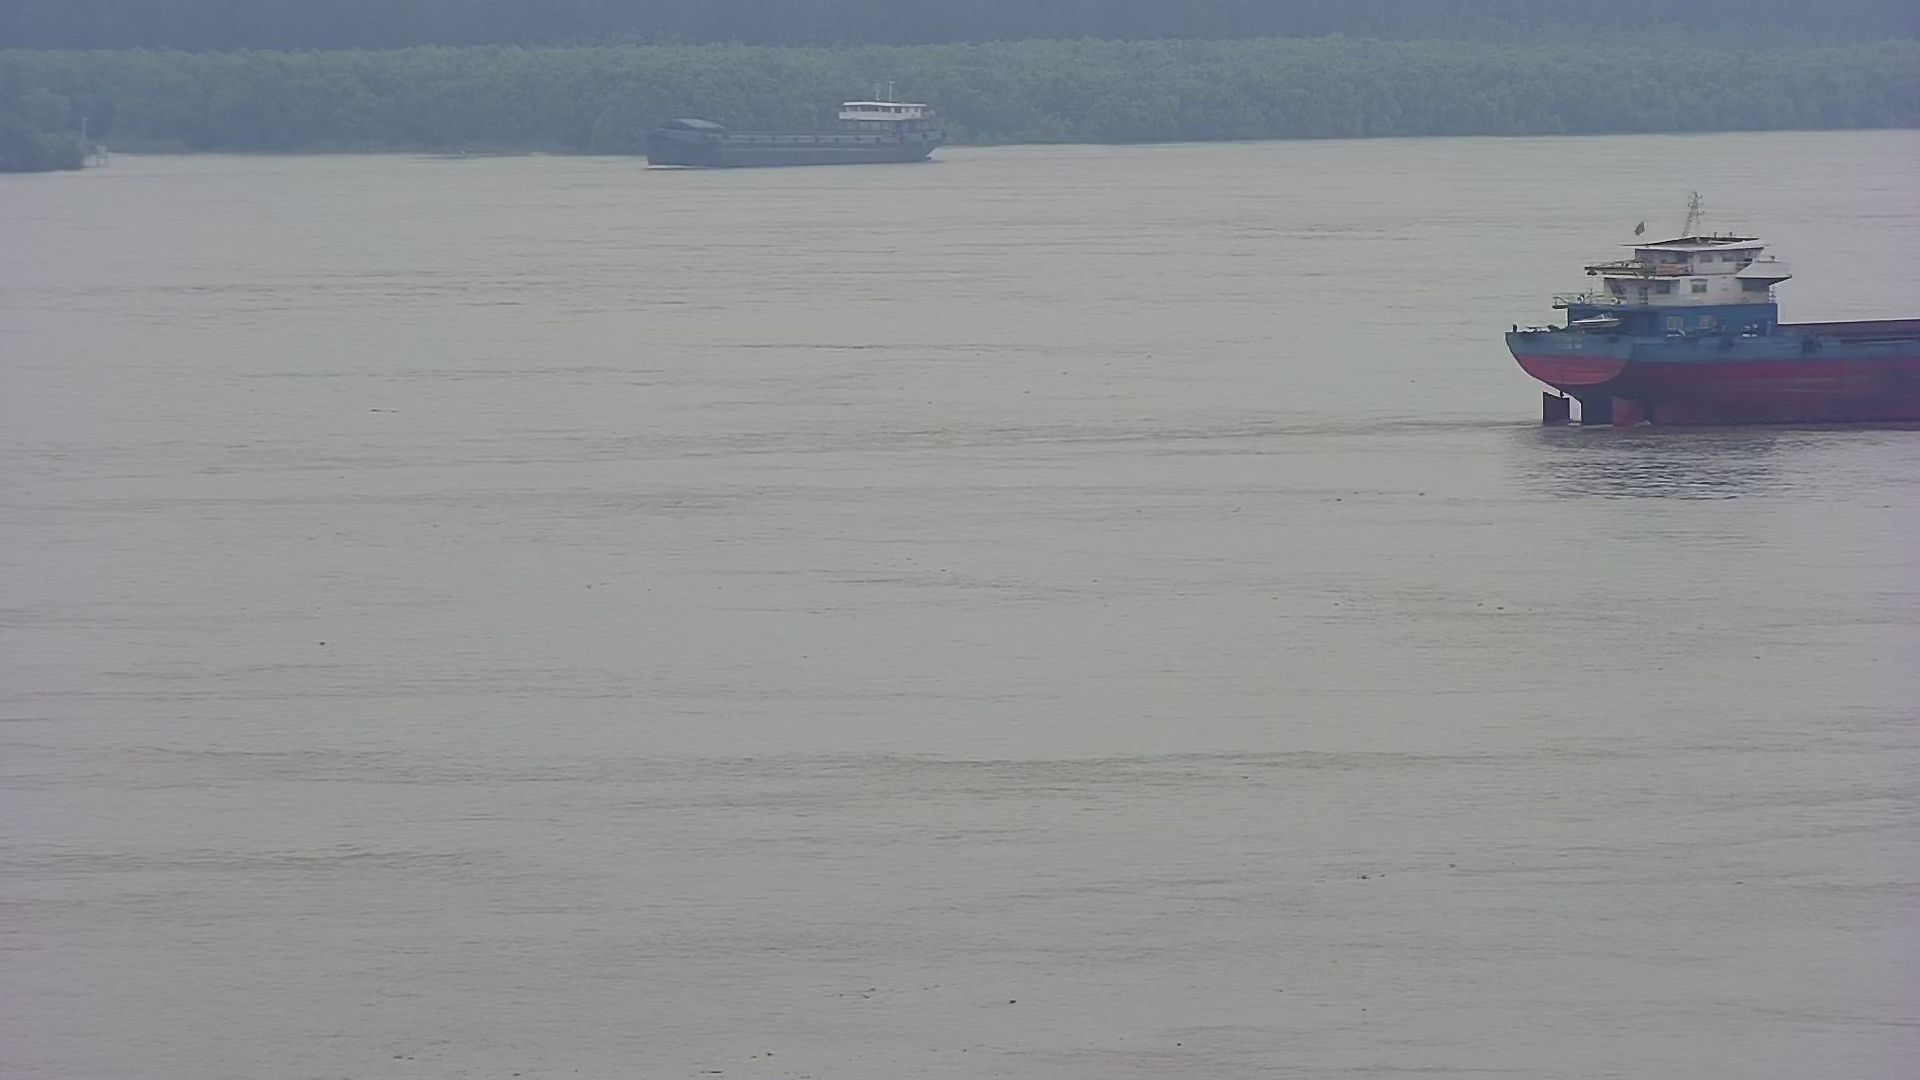ship: (1489, 158, 1920, 452), (640, 80, 957, 179)
